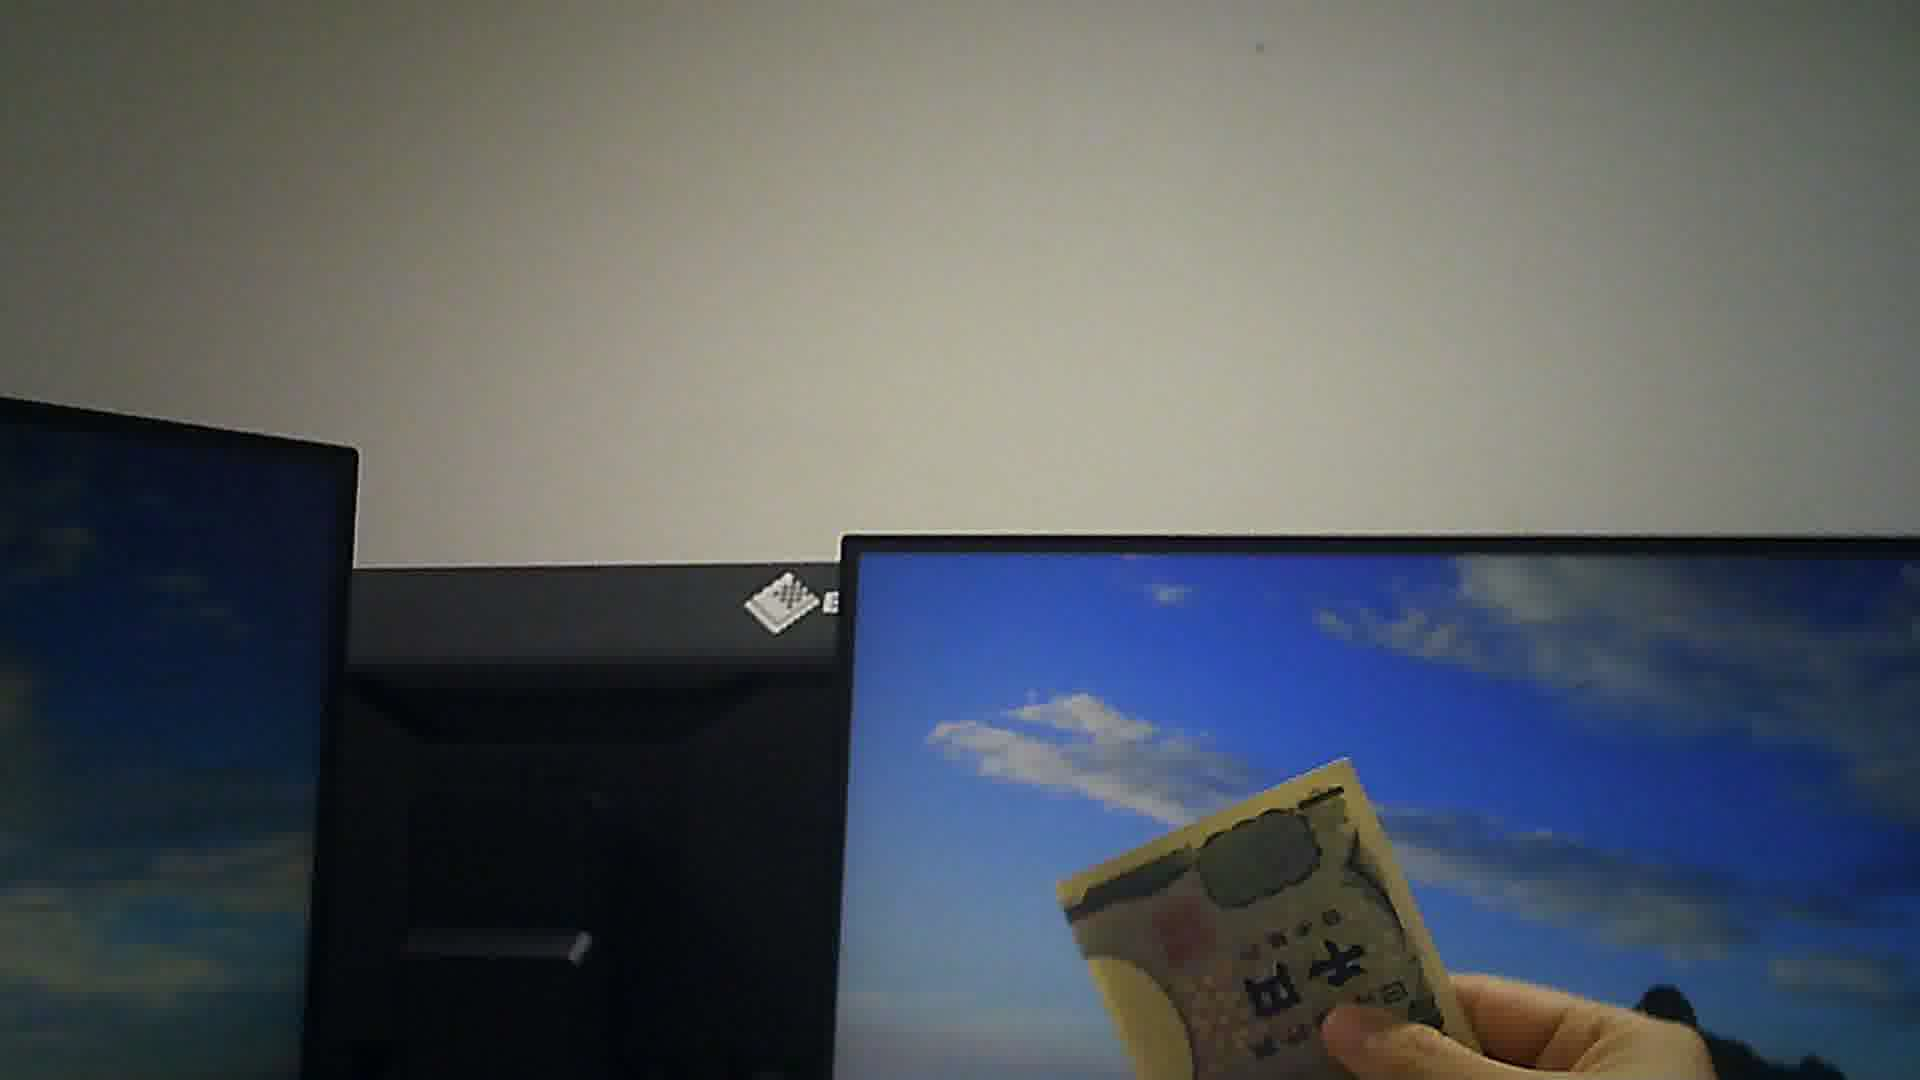1,000 Yen: (1050, 742, 1466, 1079)
